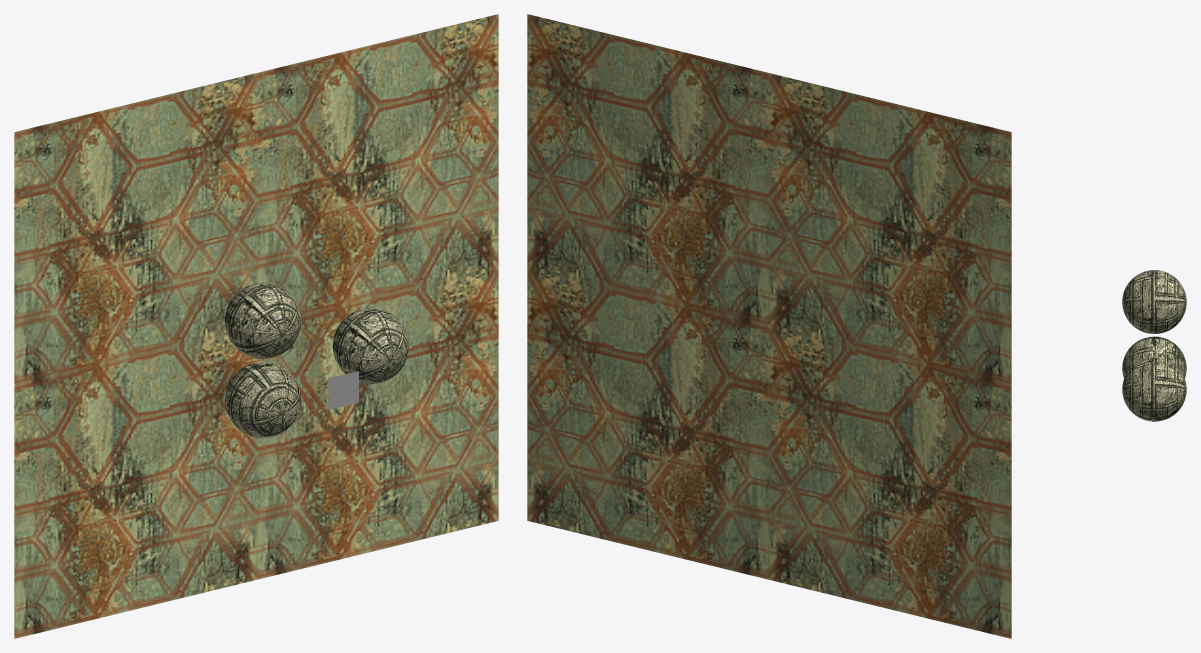
The picture shows the model from 3 angles, left to right: view 1: azimuth 30°, elevation 25°; view 2: azimuth 150°, elevation 25°; view 3: azimuth 270°, elevation 25°; orthographic projection. The views are drawn at different scales.
Parts seen in each view (by area): view 1: floor, sphere3_sphere, sphere2_sphere.002, sphere1_sphere.001, projector; view 2: floor; view 3: sphere1_sphere.001, sphere2_sphere.002, sphere3_sphere.
Part boxes in pixels (left/top/right/bottom): floor: left=14, top=14, right=498, bottom=638; sphere3_sphere: left=224, top=361, right=301, bottom=437; sphere2_sphere.002: left=224, top=283, right=301, bottom=358; sphere1_sphere.001: left=332, top=307, right=409, bottom=384; projector: left=328, top=371, right=358, bottom=409; floor: left=527, top=14, right=1011, bottom=638; sphere1_sphere.001: left=1122, top=357, right=1186, bottom=421; sphere2_sphere.002: left=1122, top=270, right=1186, bottom=333; sphere3_sphere: left=1122, top=336, right=1186, bottom=378.
Bounding box in the file's own units: 16 × 16 × 5.
